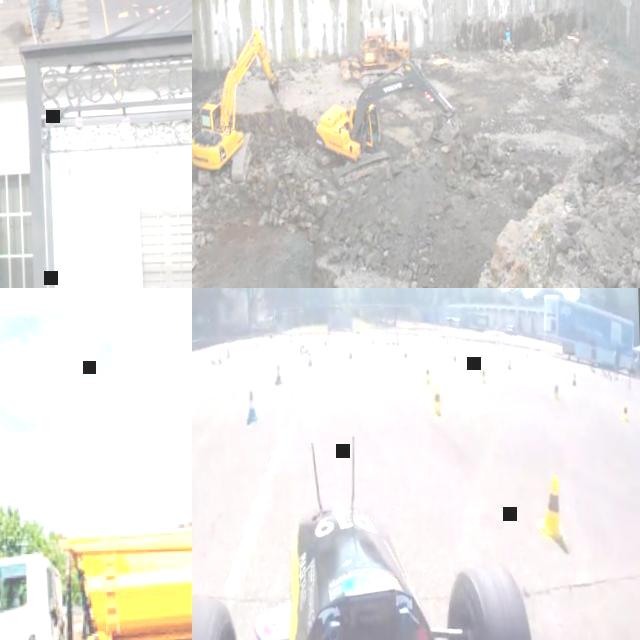helmet: (508, 26, 512, 31)
machinery: (0, 517, 192, 640), (311, 58, 464, 190), (192, 25, 287, 191), (358, 26, 424, 88)
person: (505, 24, 513, 46)
safety_cone: (540, 474, 563, 538), (430, 381, 446, 419), (244, 390, 262, 422), (274, 360, 283, 395), (619, 399, 630, 424), (552, 382, 560, 402), (482, 363, 489, 385), (426, 366, 432, 385), (348, 343, 354, 361), (308, 353, 314, 368), (303, 346, 310, 356), (219, 353, 223, 370), (508, 356, 512, 371), (574, 370, 578, 385), (404, 344, 408, 358), (212, 358, 218, 366), (454, 351, 458, 362), (256, 342, 260, 352), (290, 336, 294, 346), (526, 350, 530, 360), (300, 344, 303, 357), (397, 336, 400, 346), (325, 338, 328, 347), (372, 337, 375, 345), (364, 334, 366, 342), (328, 336, 330, 342)
vehicle: (192, 492, 578, 640)
vest: (506, 32, 512, 42)
